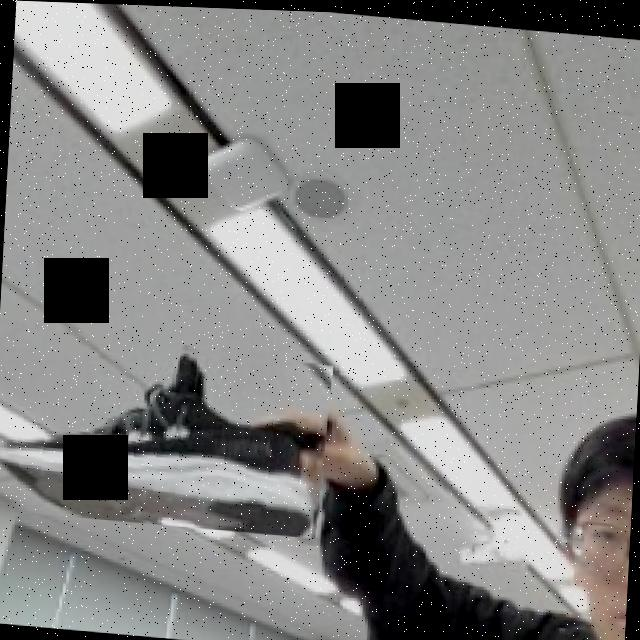shoe: (0, 321, 334, 537)
